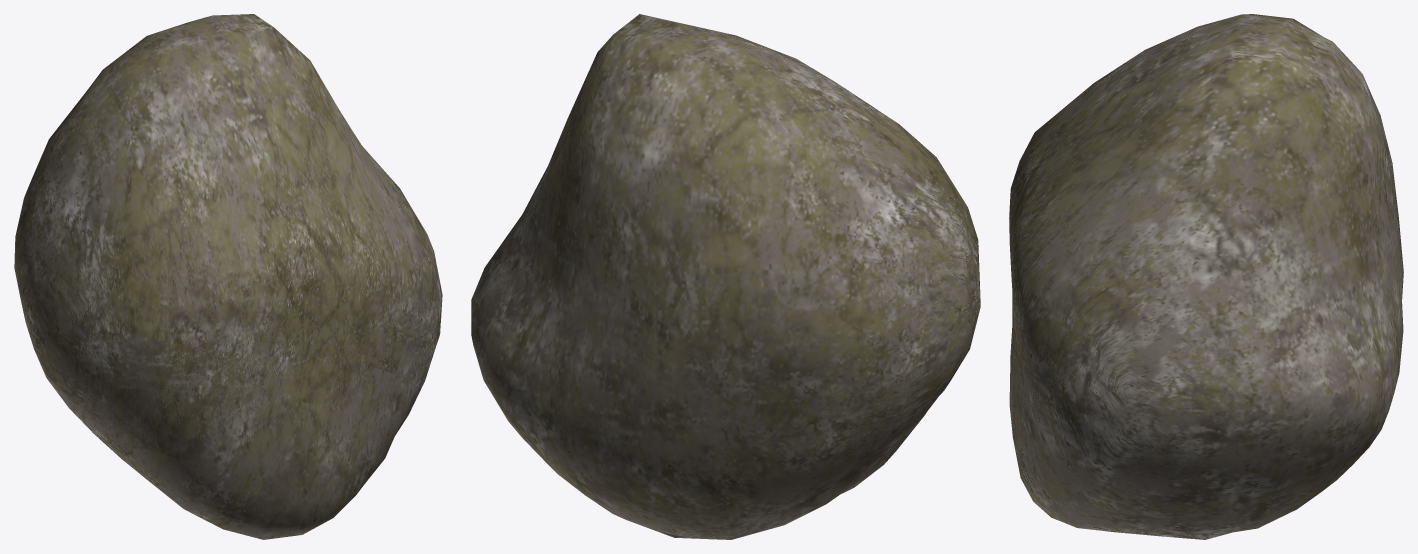
File: rock2.FBX
The picture shows the model from 3 angles, left to right: view 1: azimuth 30°, elevation 25°; view 2: azimuth 150°, elevation 25°; view 3: azimuth 270°, elevation 25°; orthographic projection. The views are drawn at different scales.
Parts seen in each view (by area): view 1: rock2; view 2: rock2; view 3: rock2.
Part boxes in pixels (bbox=[...]): rock2: bbox=[14, 14, 442, 539]; rock2: bbox=[471, 14, 980, 539]; rock2: bbox=[1009, 14, 1403, 539].
Bounding box in the file's own units: 54.18 × 61.5 × 44.63.
